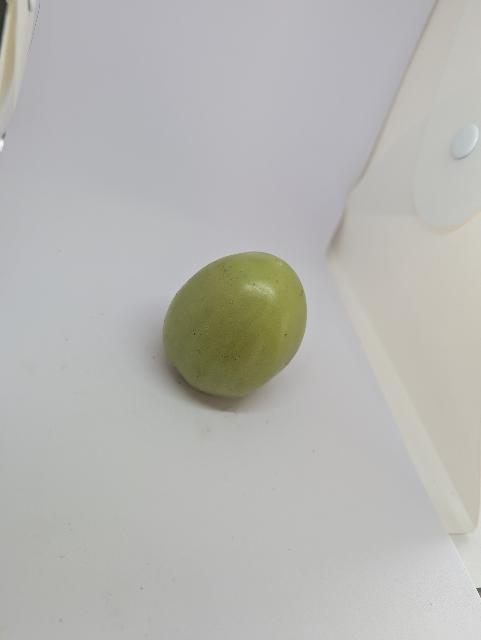green: (129, 229, 314, 409)
